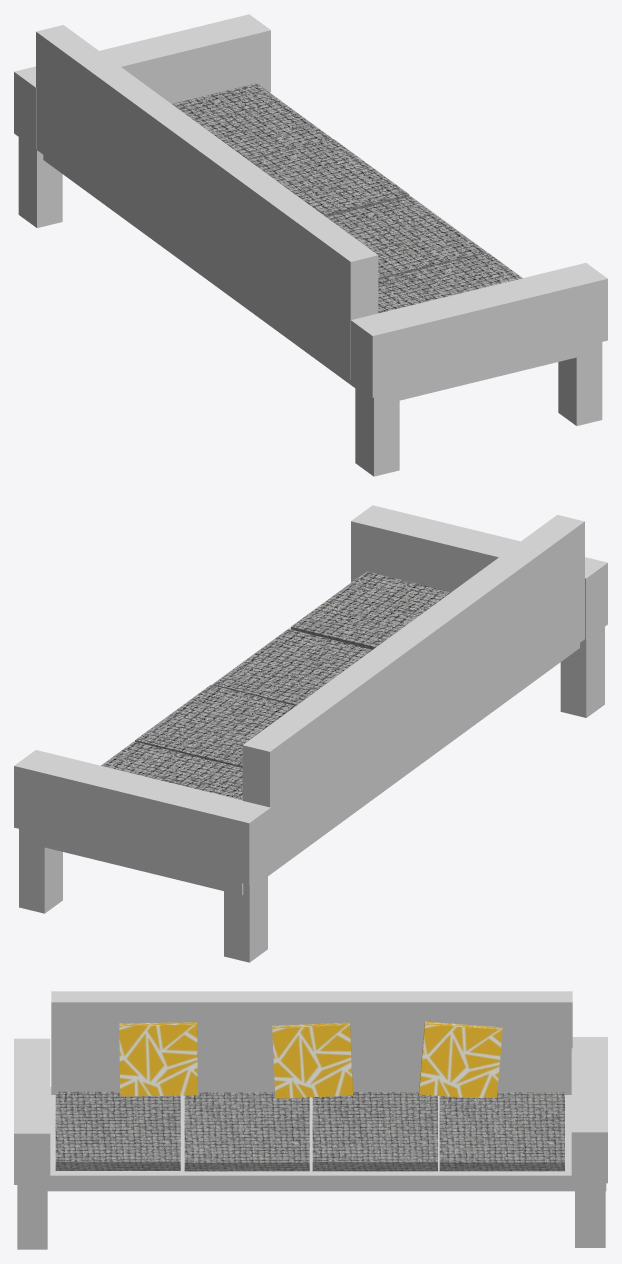
File: sofa2.gltf
3 views of the same model, one above another, from view 1: azimuth 30°, elevation 25°; view 2: azimuth 150°, elevation 25°; view 3: azimuth 270°, elevation 25° (orthographic). The views are drawn at different scales.
Parts seen in each view (by area): view 1: Cube.005, Cube.011, Cube.014, Cube.003, Cube, Cube.002, Cube.004, Cube.001, Cube.013, Cube.006, Cube.008; view 2: Cube.005, Cube.014, Cube.011, Cube, Cube.004, Cube.003, Cube.001, Cube.002, Cube.008, Cube.013, Cube.015; view 3: Cube.005, Cube.001, Cube, Cube.003, Cube.004, Cube.002, Cube.009, Cube.010, Cube.007, Cube.011, Cube.014, Cube.006 (+1 smaller).
Boxes of the visible parts, x1,y1,x2,y2 form: Cube.005: (36, 25, 378, 379); Cube.011: (351, 263, 607, 397); Cube.014: (14, 14, 270, 149); Cube.003: (326, 196, 486, 279); Cube: (248, 139, 409, 216); Cube.002: (172, 83, 332, 159); Cube.004: (378, 253, 522, 313); Cube.001: (43, 155, 576, 400); Cube.013: (355, 385, 399, 476); Cube.006: (558, 342, 602, 425); Cube.008: (18, 137, 62, 227); Cube.005: (242, 515, 584, 868); Cube.014: (14, 750, 270, 884); Cube.011: (351, 505, 607, 640); Cube: (135, 685, 295, 767); Cube.004: (291, 571, 451, 649); Cube.003: (212, 629, 372, 705); Cube.001: (22, 578, 579, 895); Cube.002: (101, 741, 242, 800); Cube.008: (224, 871, 267, 962); Cube.013: (560, 627, 604, 717); Cube.015: (19, 829, 62, 913); Cube.005: (51, 991, 572, 1094); Cube.001: (47, 1087, 606, 1191); Cube: (312, 1092, 437, 1171); Cube.003: (184, 1092, 309, 1171); Cube.004: (55, 1091, 180, 1170); Cube.002: (439, 1092, 564, 1171); Cube.009: (272, 1022, 353, 1098); Cube.010: (119, 1022, 197, 1096); Cube.007: (419, 1021, 502, 1097); Cube.011: (14, 1038, 50, 1184); Cube.014: (571, 1037, 607, 1183); Cube.006: (17, 1185, 47, 1249).
Bounding box in the file's own units: 5.21 × 4.22 × 13.75.
Materials: 12 (2 with a texture image).
